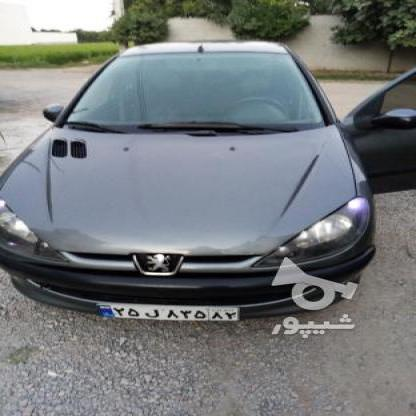licence: (99, 304, 240, 318)
